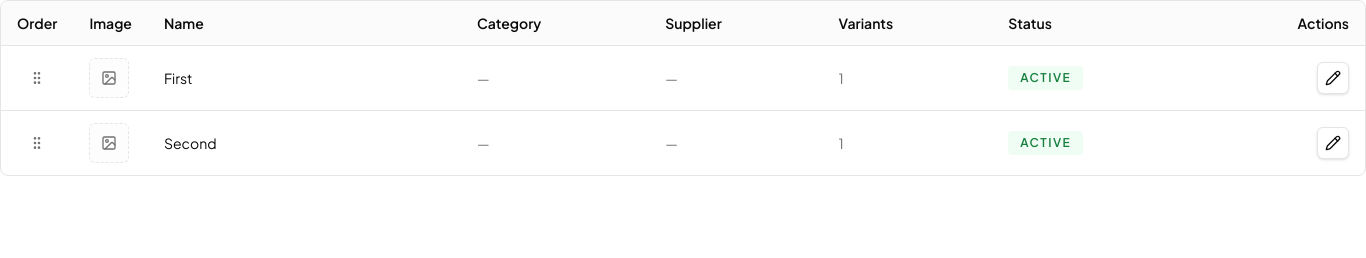
Test: AdminArticlesTable › cancels an active pointer reorder when reordering becomes disabled
The width and height of the screenshot is (1366, 258).
Press the mouse on the button named "Drag article Second" at (37, 143), box [17, 123, 57, 163]
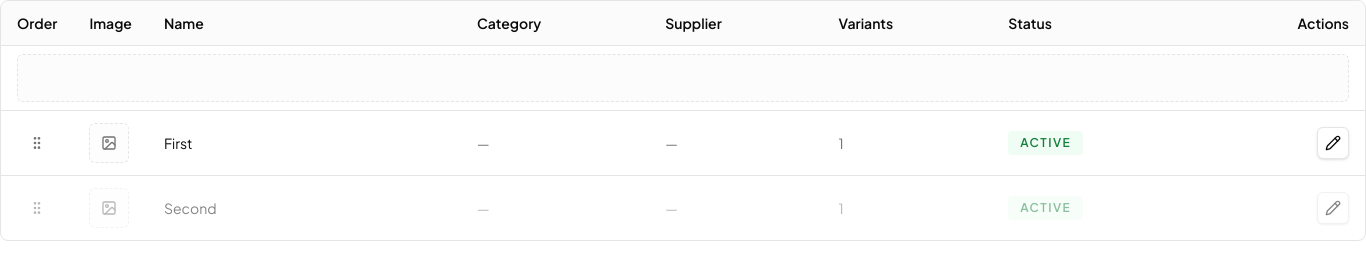
expect the row with test id "article-drop-skeleton" is shown: met, box [1, 46, 1365, 110]
